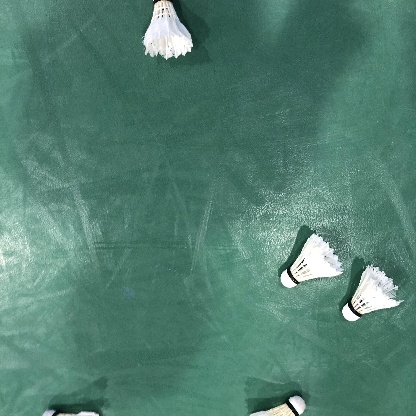ball_single: (342, 264, 404, 321), (280, 233, 344, 288), (143, 0, 193, 60), (249, 395, 306, 416)
